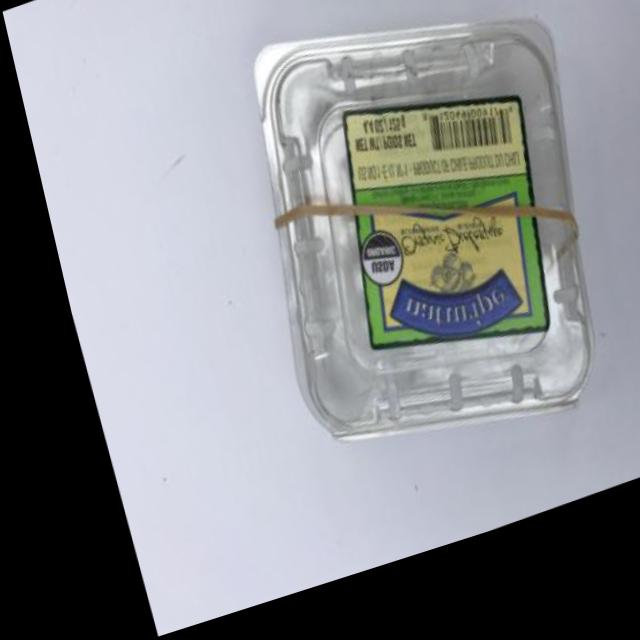plastic: (164, 0, 640, 569)
